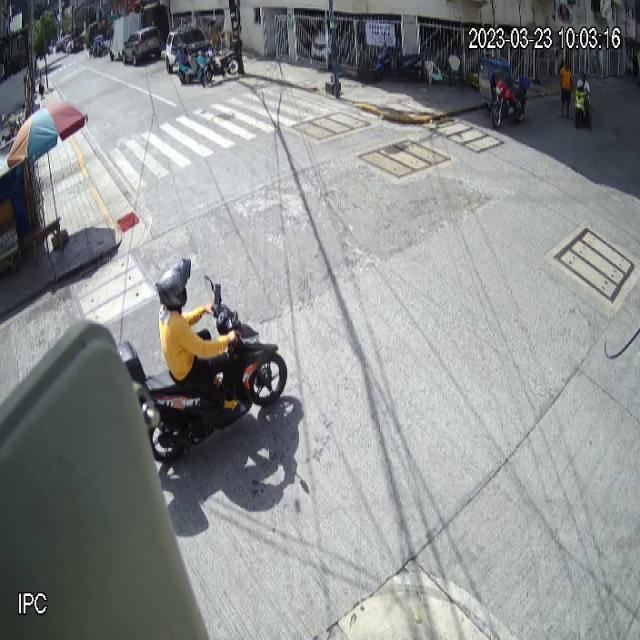Motorcycle: (118, 275, 287, 466), (574, 88, 588, 130)
Tricycle: (478, 58, 530, 129)
